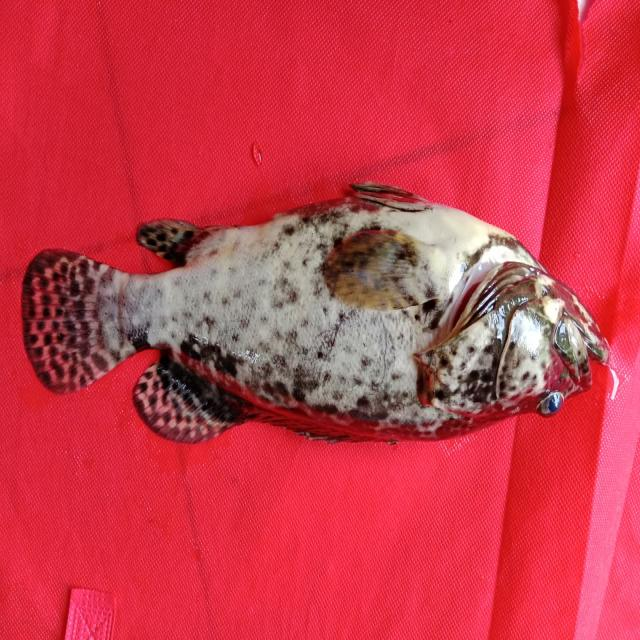ikan: (21, 180, 612, 446)
